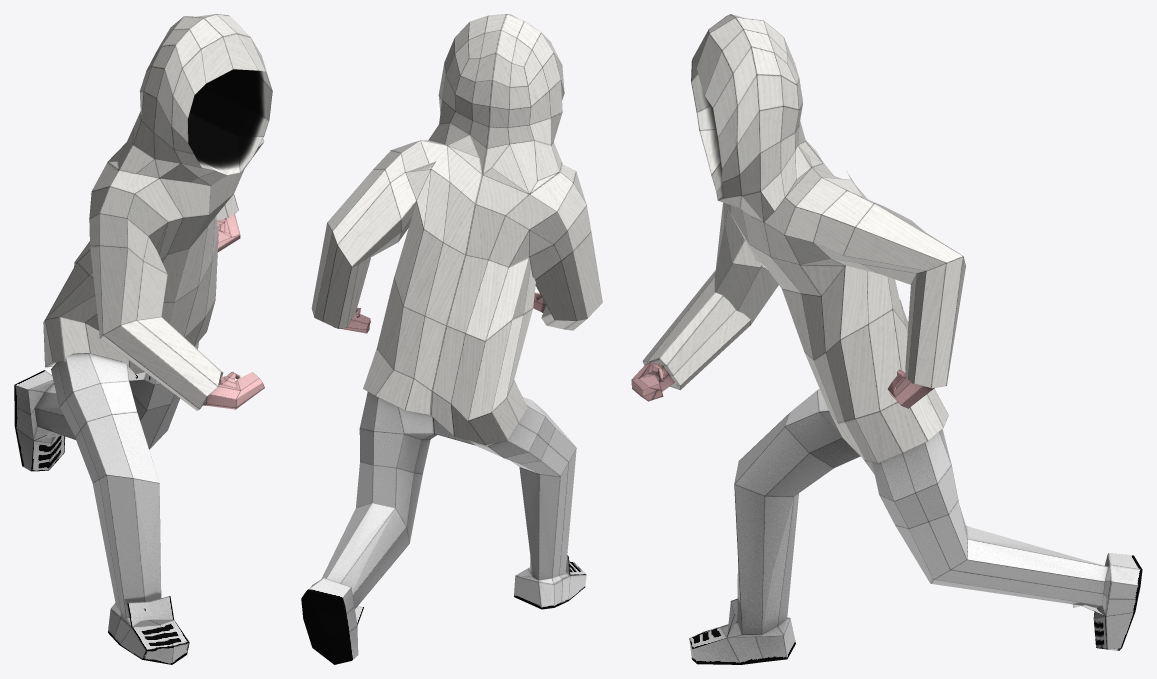
The model's file is Shadowmanv_000004.obj.
The picture shows the model from 3 angles, left to right: view 1: azimuth 30°, elevation 25°; view 2: azimuth 150°, elevation 25°; view 3: azimuth 270°, elevation 25°; orthographic projection. The views are drawn at different scales.
Parts seen in each view (by area): view 1: Cube.000; view 2: Cube.000; view 3: Cube.000.
Part boxes in pixels (x1=…): Cube.000: x1=14, y1=14, x2=272, y2=664; Cube.000: x1=301, y1=14, x2=602, y2=664; Cube.000: x1=631, y1=14, x2=1142, y2=664.
Size of the model in its own units: 4.09 by 10.79 by 7.46.
